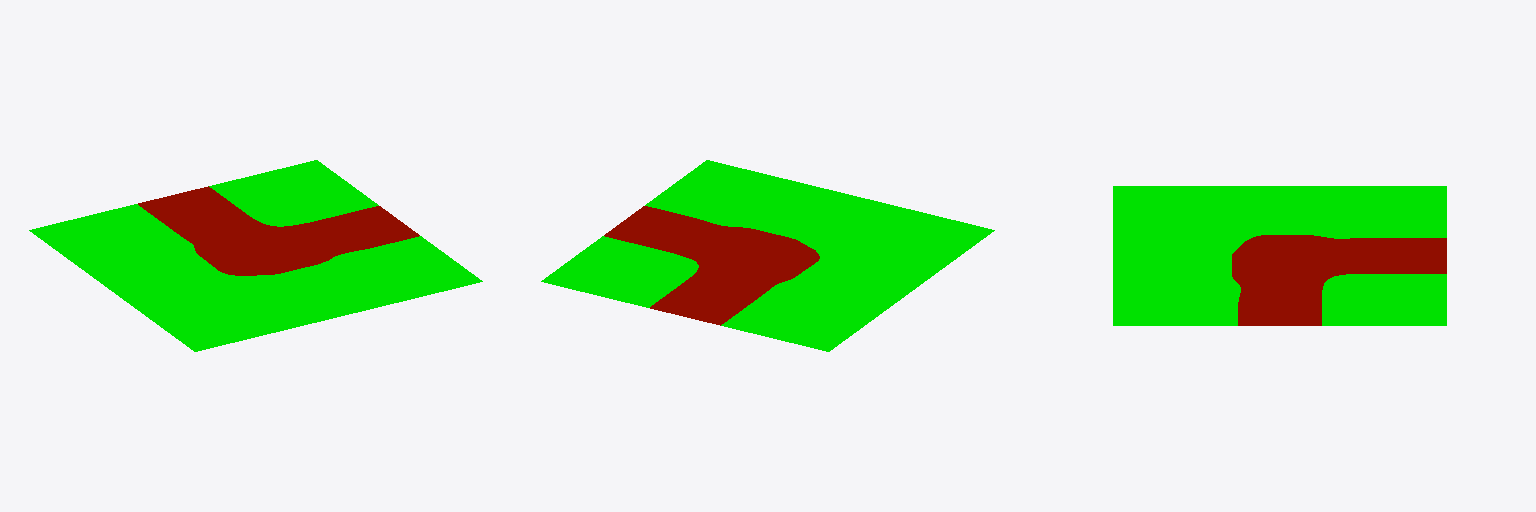
File: Corner.obj
3 views of the same model, side by side, from view 1: azimuth 30°, elevation 25°; view 2: azimuth 150°, elevation 25°; view 3: azimuth 270°, elevation 25° (orthographic).
Bounding box in the file's own units: 20 × 0 × 20.